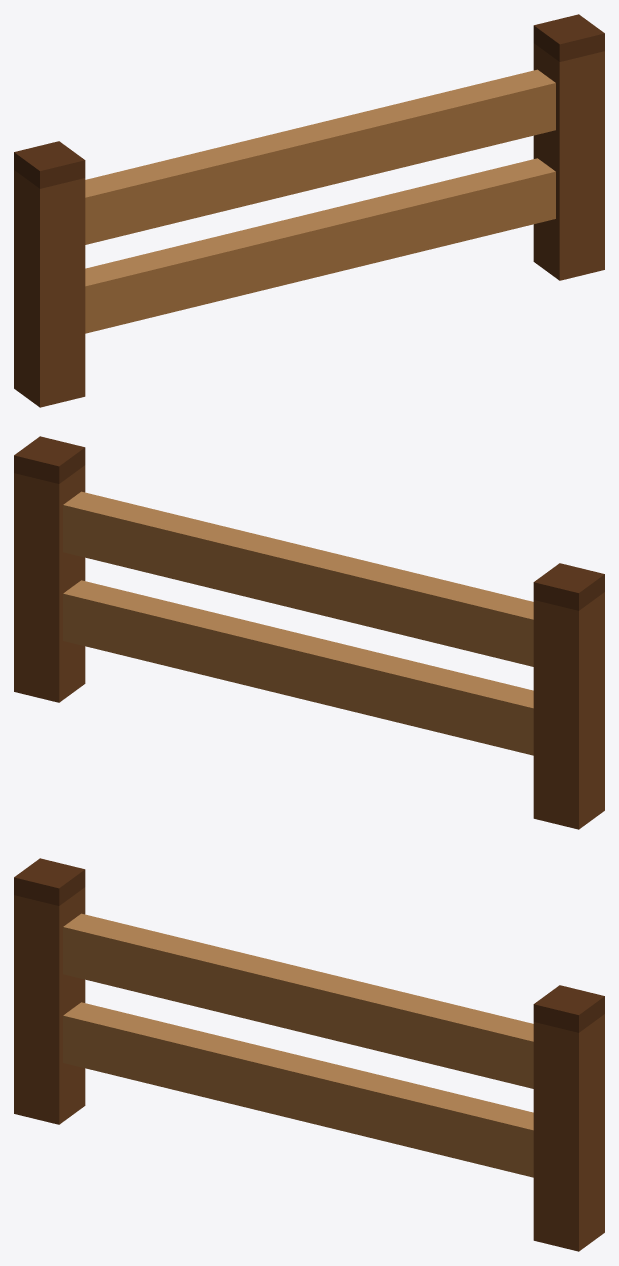
File: fence.glb
3 renders of one model, top to bottom at view 1: azimuth 30°, elevation 25°; view 2: azimuth 150°, elevation 25°; view 3: azimuth 330°, elevation 25°, orthographic.
Visible parts, largest first — view 1: Body; view 2: Body; view 3: Body.
Boxes of the visible parts, x1,y1,x2,y2 form: Body: (14, 14, 604, 407); Body: (14, 436, 604, 829); Body: (14, 858, 604, 1251).
Size of the model in its own units: 1 by 0.4 by 0.08.
